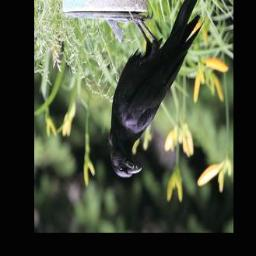Crow: (108, 0, 205, 179)
